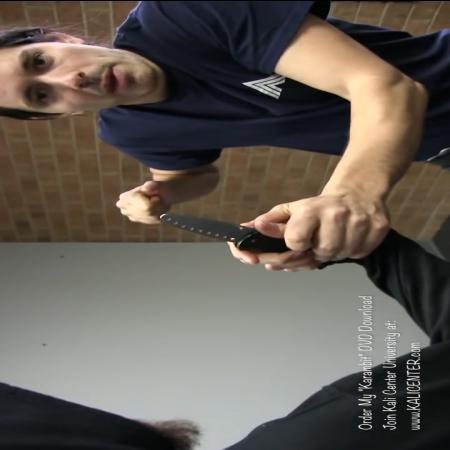long weapon: (150, 209, 314, 276)
